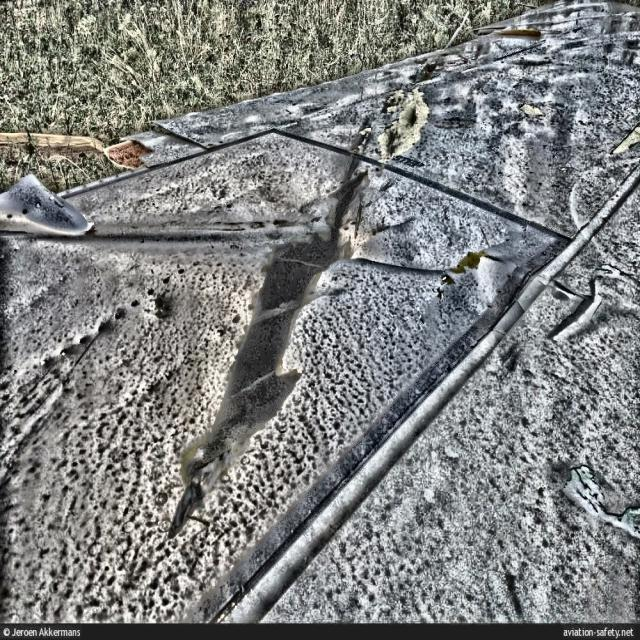crack: (173, 165, 372, 525), (404, 104, 421, 137)
